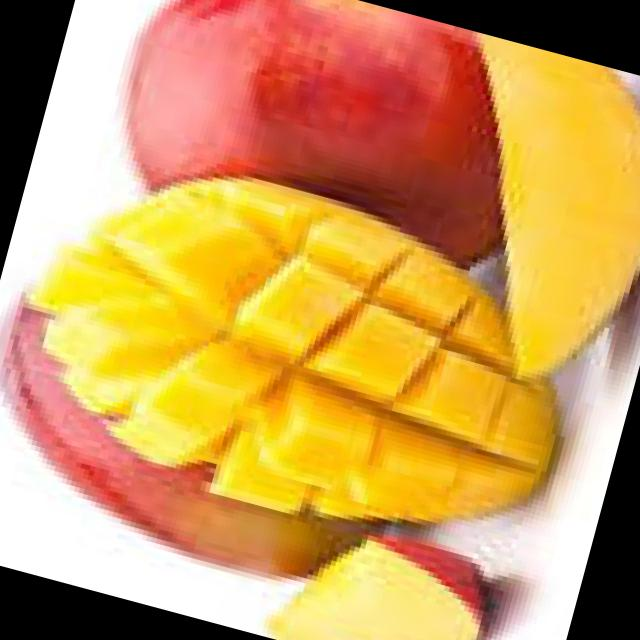mango: (29, 179, 554, 518), (0, 300, 368, 577), (126, 0, 501, 264), (477, 31, 640, 373), (270, 536, 483, 640)
